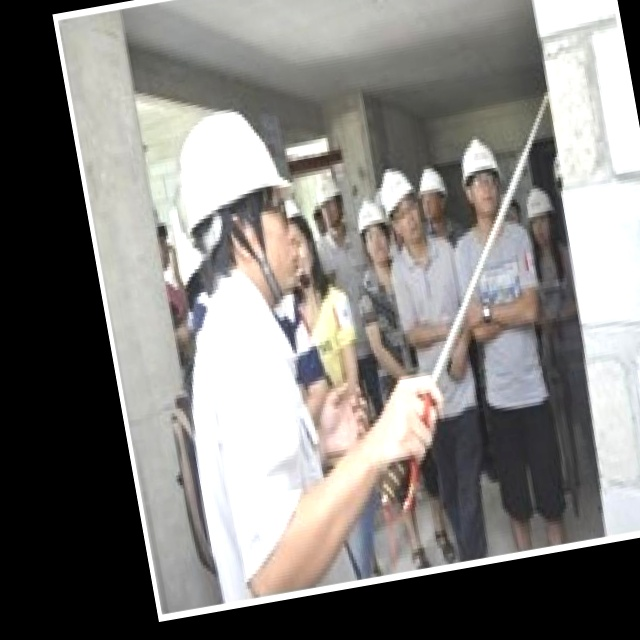Con_Casco: (170, 104, 313, 316)
